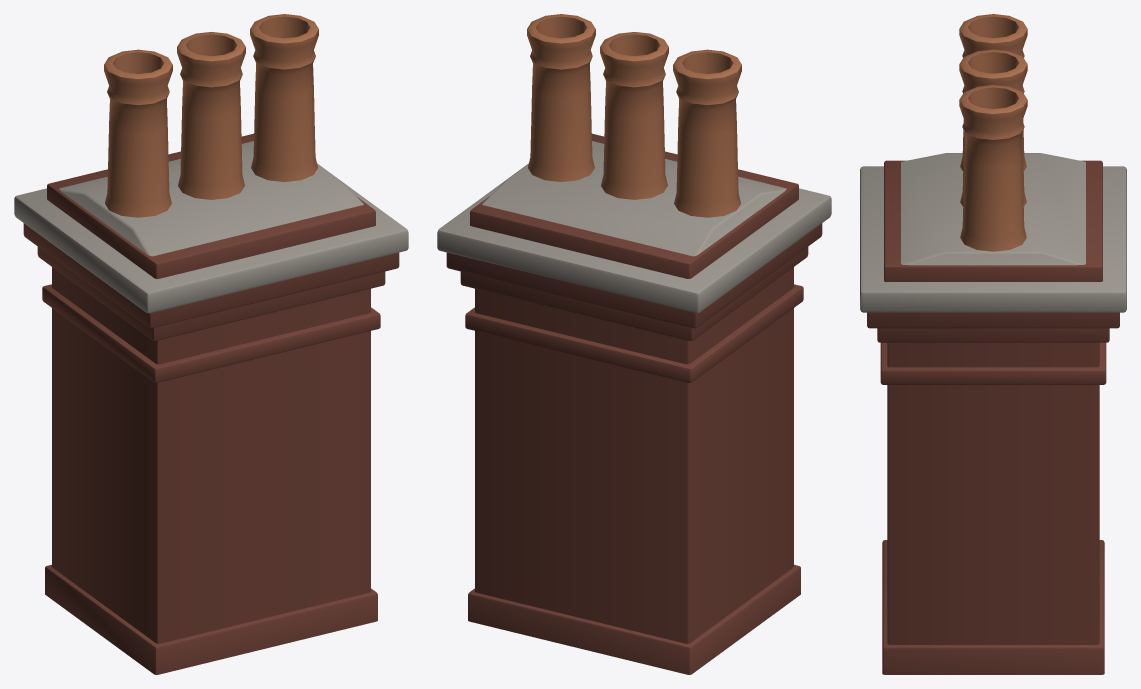
The model's file is ChimneyStack.fbx.
3 views of the same model, side by side, from view 1: azimuth 30°, elevation 25°; view 2: azimuth 150°, elevation 25°; view 3: azimuth 270°, elevation 25° (orthographic).
Parts seen in each view (by area): view 1: ChimneyStack_Brick, ChimneyStack_Clay, ChimneyStack_Stone; view 2: ChimneyStack_Brick, ChimneyStack_Clay, ChimneyStack_Stone; view 3: ChimneyStack_Brick, ChimneyStack_Stone, ChimneyStack_Clay.
Part boxes in pixels (<box>): ChimneyStack_Brick: <box>23,133,399,674</box>; ChimneyStack_Clay: <box>104,14,318,217</box>; ChimneyStack_Stone: <box>14,141,408,313</box>; ChimneyStack_Brick: <box>446,133,822,674</box>; ChimneyStack_Clay: <box>527,14,741,217</box>; ChimneyStack_Stone: <box>437,141,831,313</box>; ChimneyStack_Brick: <box>867,160,1119,674</box>; ChimneyStack_Stone: <box>860,153,1126,312</box>; ChimneyStack_Clay: <box>959,14,1027,251</box>.
Bounding box in the file's own units: 3.52 × 7.2 × 3.12.
